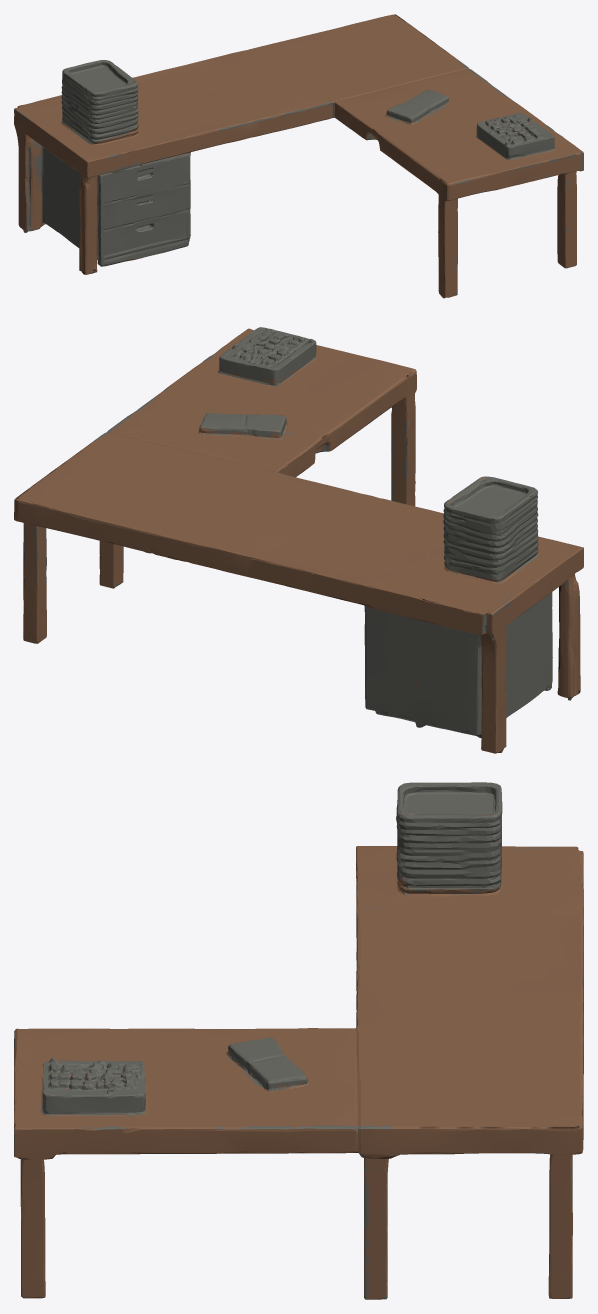
Rendered from LDesk.fbx.
3 views of the same model, one above another, from view 1: azimuth 30°, elevation 25°; view 2: azimuth 150°, elevation 25°; view 3: azimuth 270°, elevation 25° (orthographic). The views are drawn at different scales.
Visible parts, largest first — view 1: Mesh1.0; view 2: Mesh1.0; view 3: Mesh1.0.
Part boxes in pixels (<box>): Mesh1.0: <box>14,14,583,298</box>; Mesh1.0: <box>14,327,583,753</box>; Mesh1.0: <box>14,782,583,1299</box>.
Bounding box in the file's own units: 201 × 85.67 × 171.
Materials: 1 (1 with a texture image).
